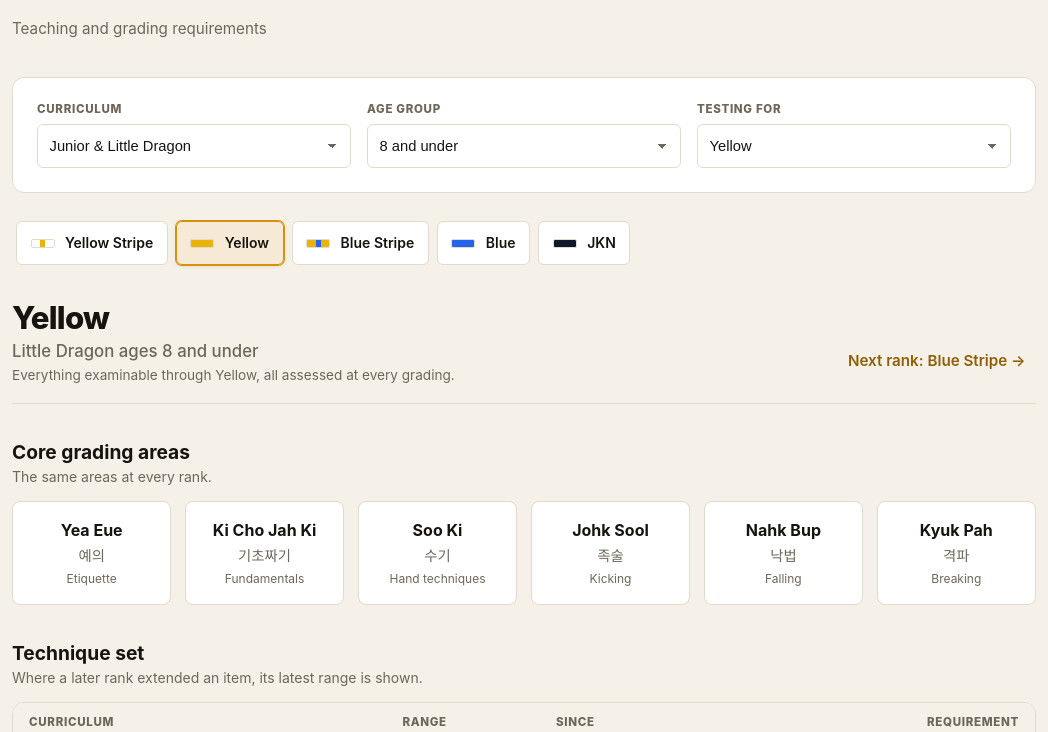
it: SyllabusScreen › lists weapons in their own ledger where the rank has them
Click the button "JKN" at (584, 243), box x1=538 y1=221 x2=630 y2=265
(page scrolled)
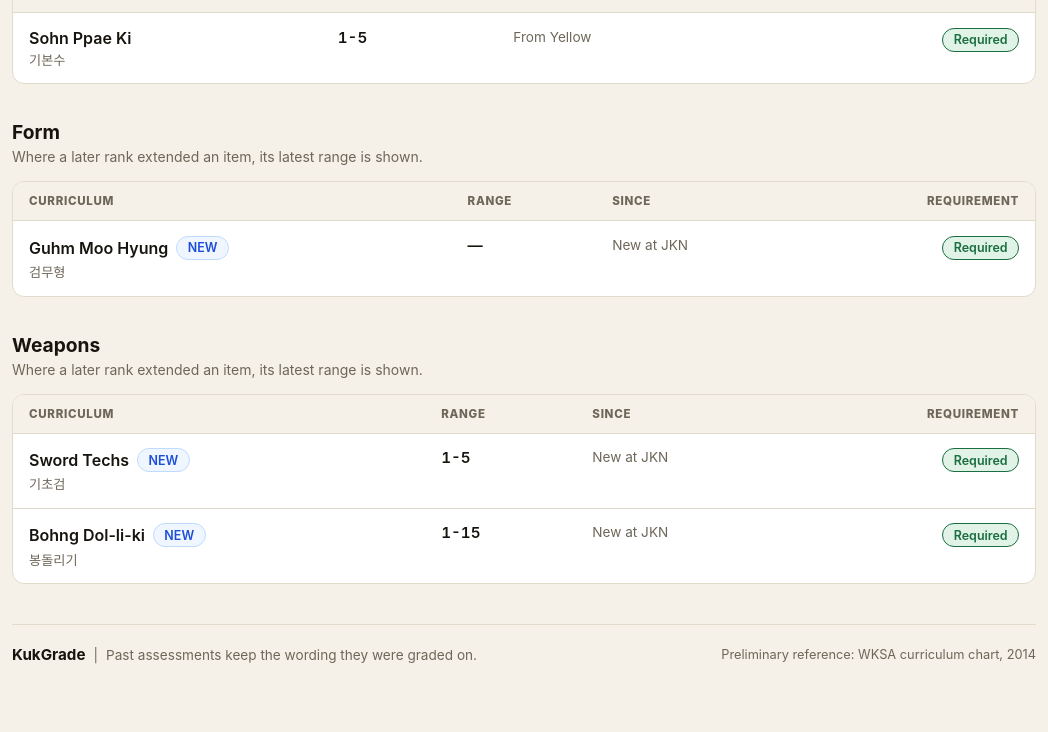
Result: the text "Sword Techs" is shown at x1=29 y1=450 x2=129 y2=470
Result: the text "1-5" in the row of "Sword Techs" is shown at x1=441 y1=448 x2=471 y2=467
Result: the text "Bohng Dol-li-ki" is shown at x1=29 y1=525 x2=145 y2=545
